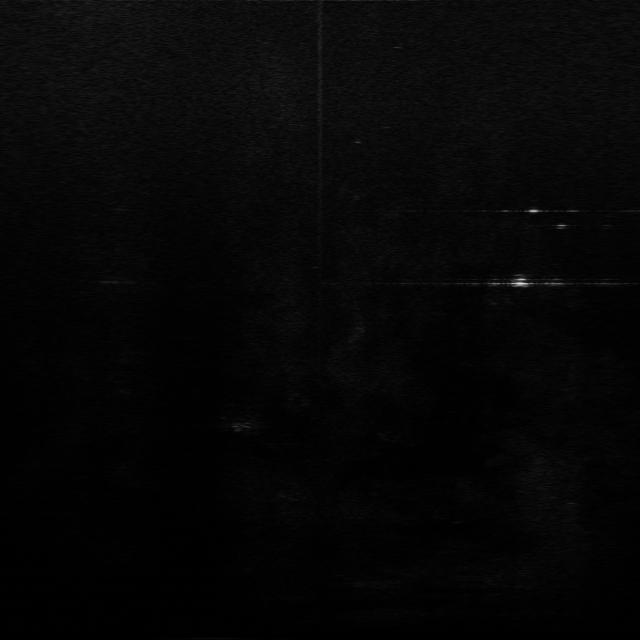rov: (508, 272, 532, 291)
